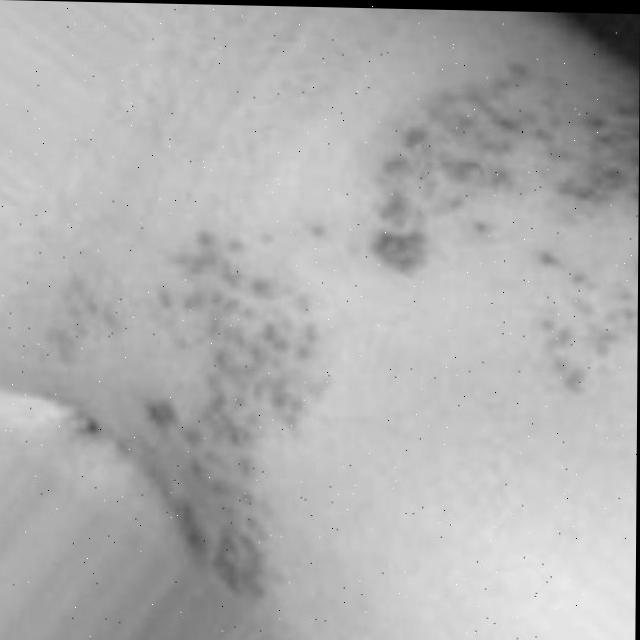Shingles: (374, 61, 640, 379), (164, 230, 321, 573)
